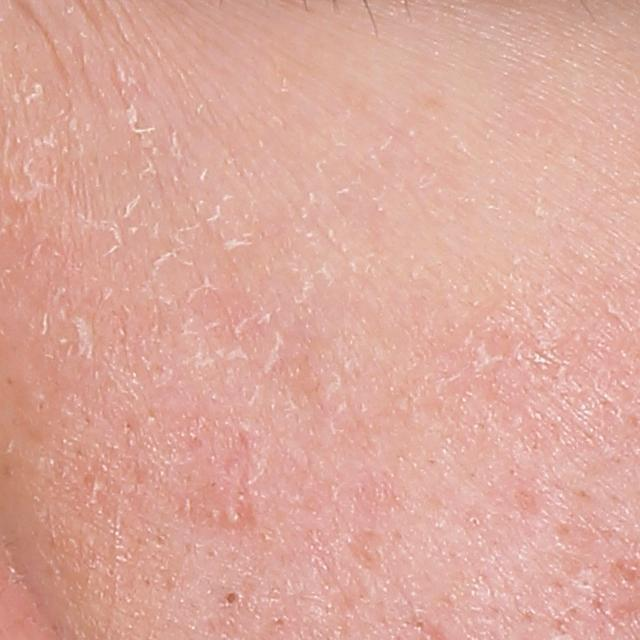comedo: (223, 588, 240, 608)
